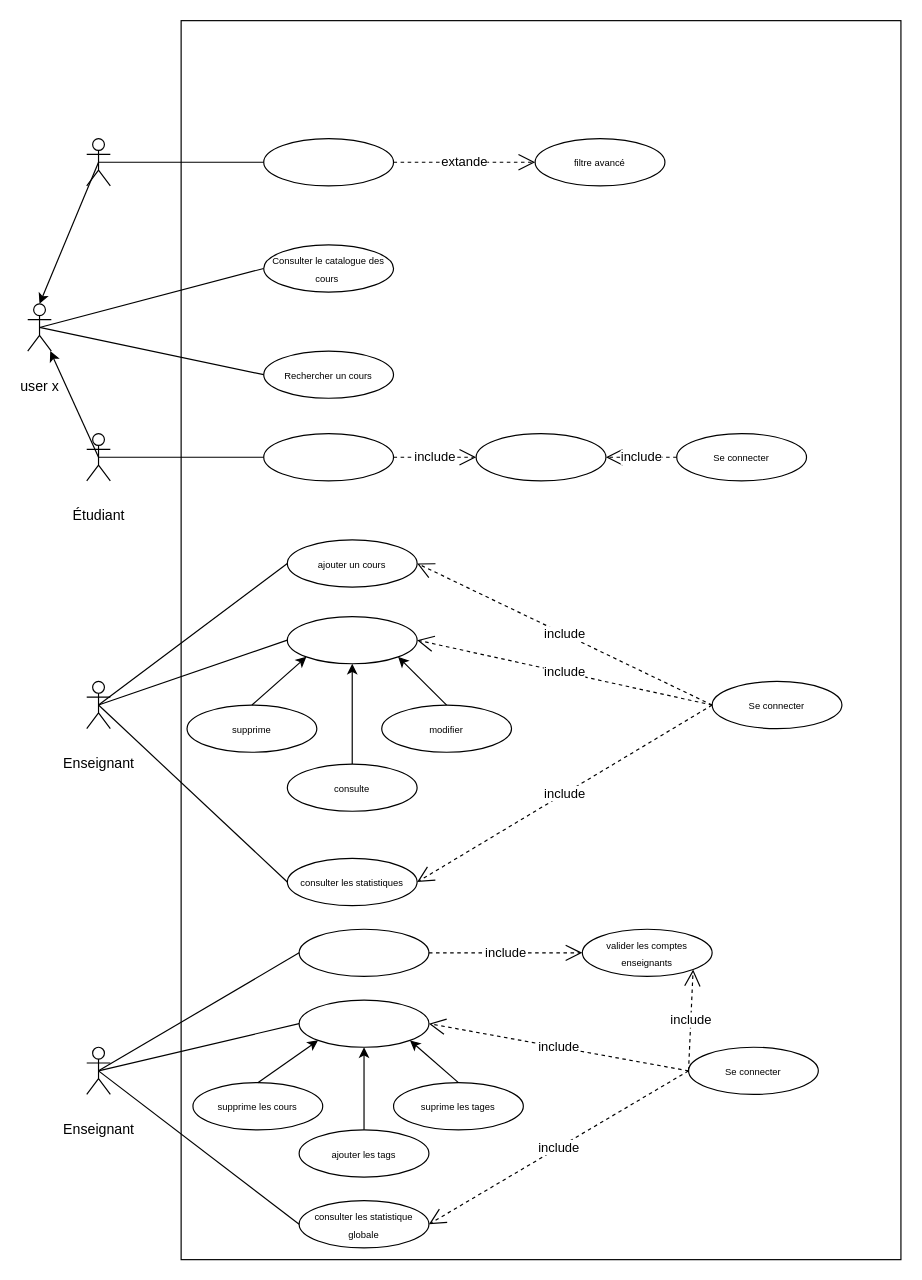
The diagram is 922 pixels wide and 1280 high, and some of its shapes have lost their labels. The centre of each missing label's shape, as x and y in pixels:
"Consulter les détails d’un cours" belongs at (x=540, y=456).
"Créer un compte" belongs at (x=328, y=161).
"Gerer les contenus" belongs at (x=363, y=1023).
"Gérer ces cours" belongs at (x=351, y=639).
"Gérer les utilisteurs" belongs at (x=363, y=952).
"S’inscrire à un cours" belongs at (x=328, y=456).
"Visiteur" belongs at (x=98, y=161).
